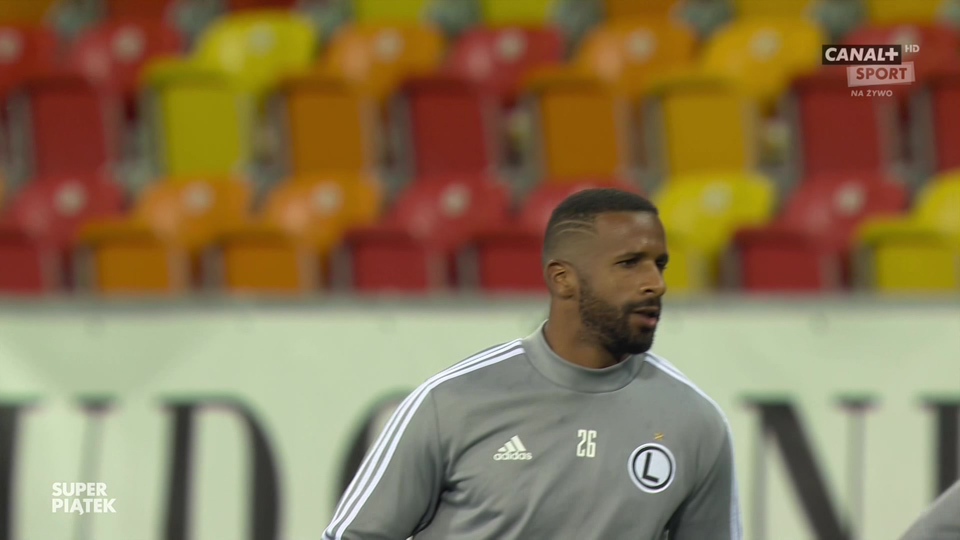Adidas: (493, 434, 534, 463)
